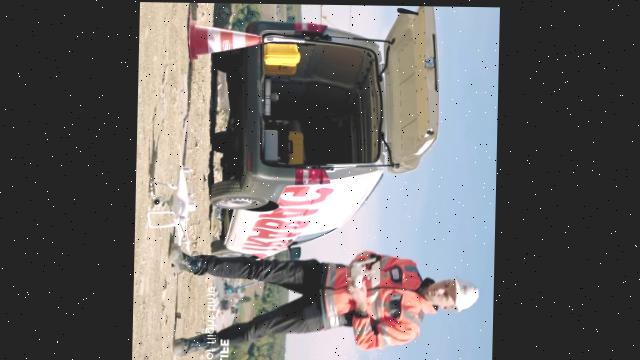drone: (151, 158, 198, 250)
